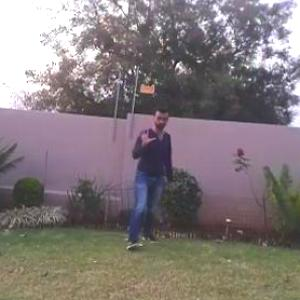follow_hand: (134, 122, 156, 150)
